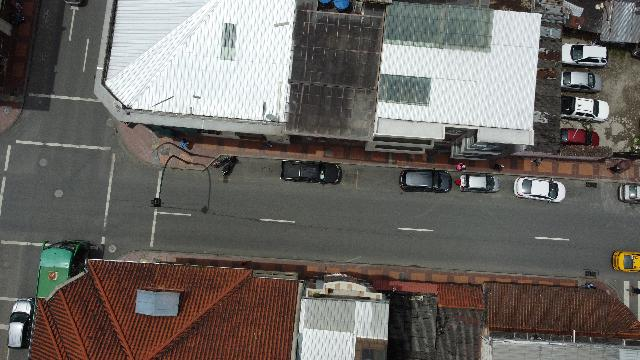Vehiculo: (280, 160, 342, 184), (7, 298, 33, 352), (513, 177, 565, 203), (400, 169, 452, 193), (561, 96, 609, 122), (562, 44, 606, 66), (562, 71, 602, 93), (458, 173, 499, 192), (560, 128, 600, 146), (612, 250, 640, 272), (618, 184, 640, 204)
